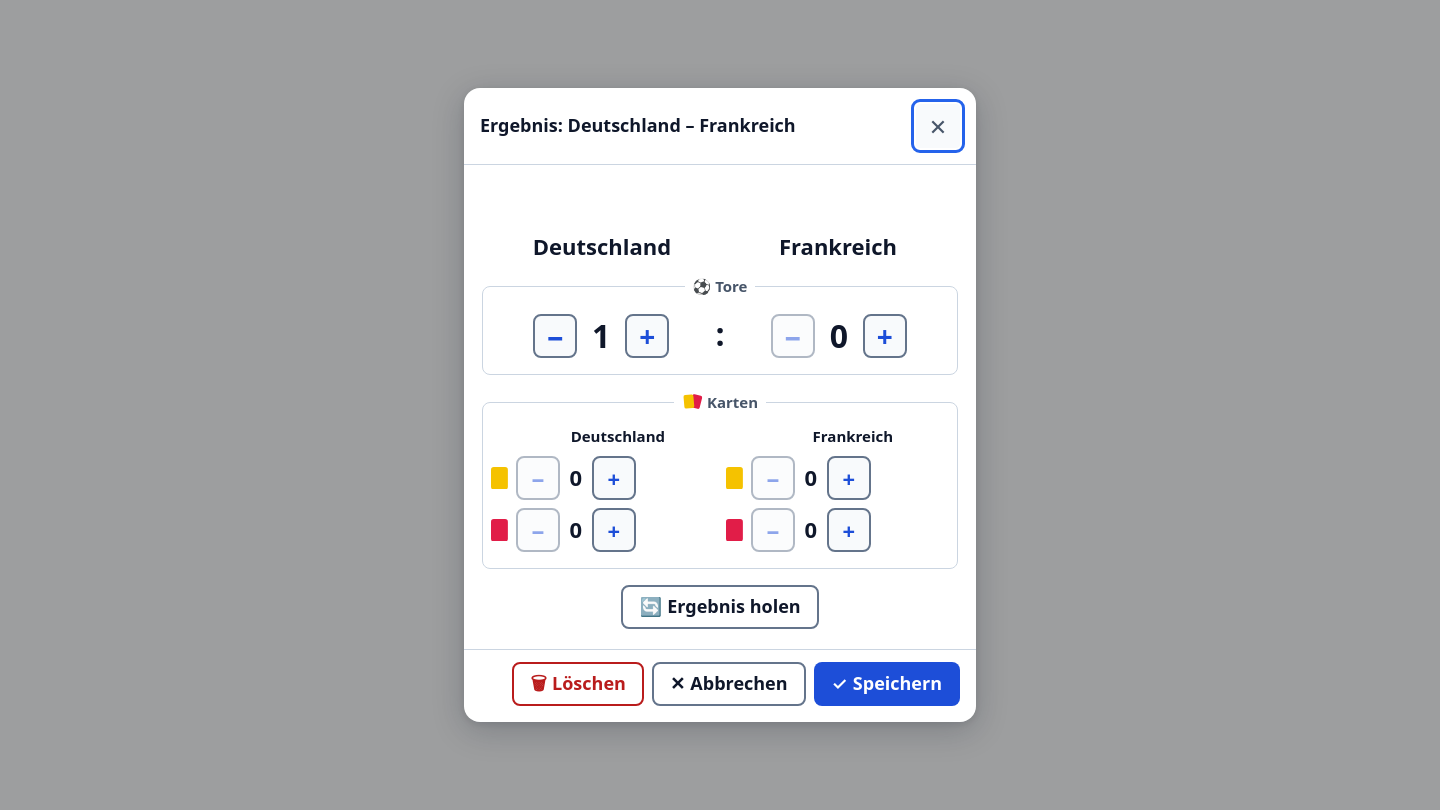
Test: ScoreDialog › cascade confirmation › shows a ConfirmDialog instead of writing when saving would invalidate downstream results
Click the 1st button "−".
click(555, 336)  # box [533, 314, 577, 358]
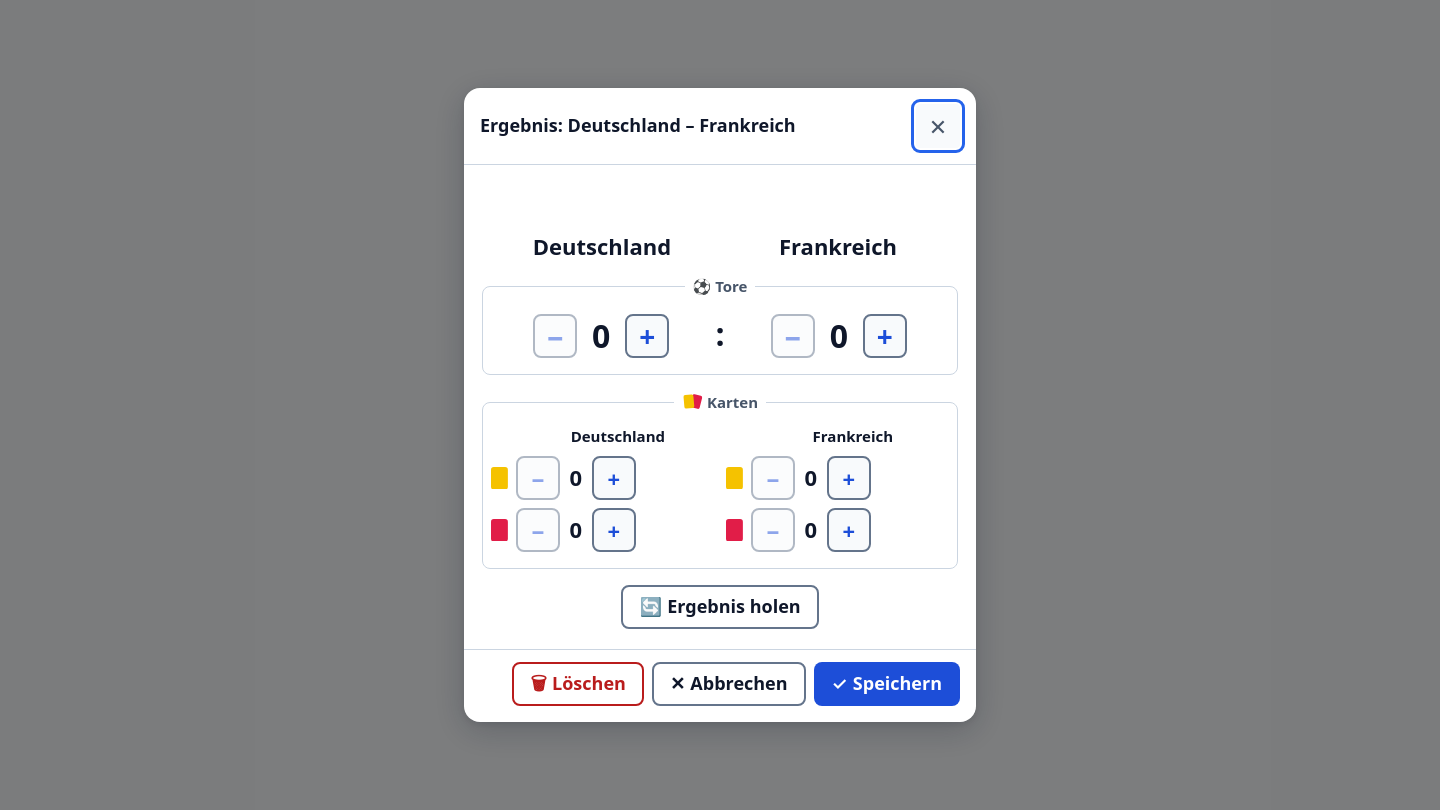
Click the 2nd button "+".
click(885, 336)  # box [863, 314, 907, 358]
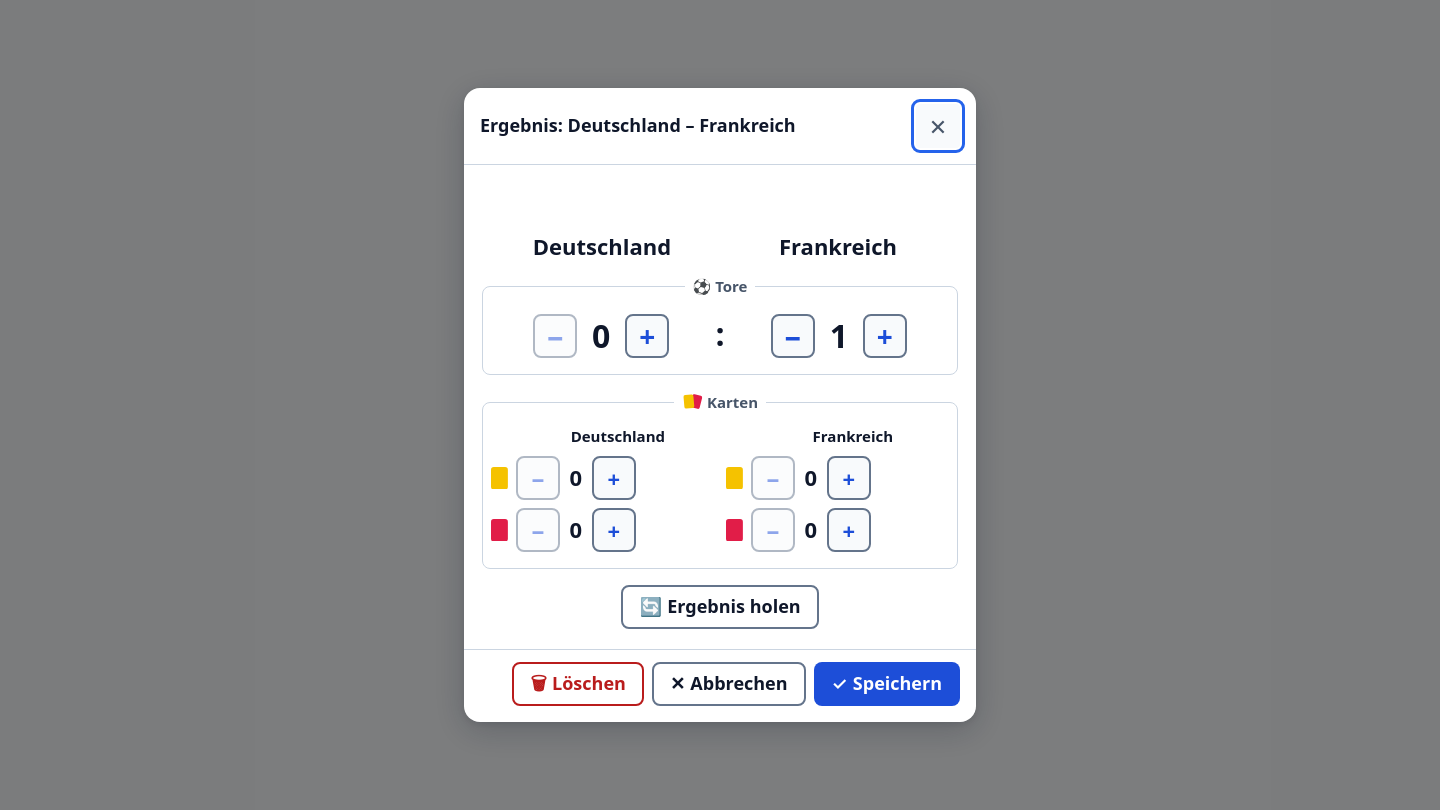
Click the 2nd button "+".
click(885, 336)  # box [863, 314, 907, 358]
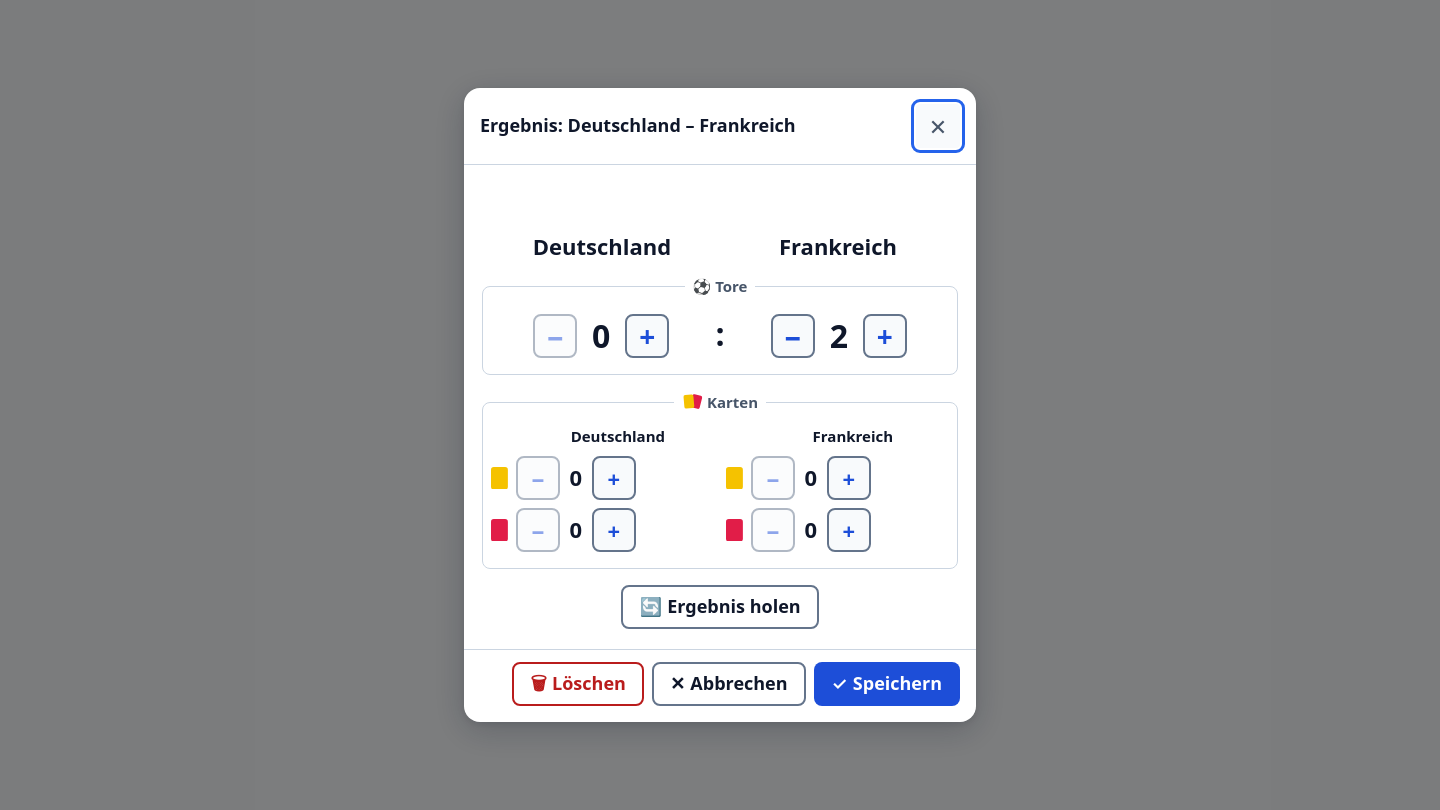
Click the 2nd button "+".
click(885, 336)  # box [863, 314, 907, 358]
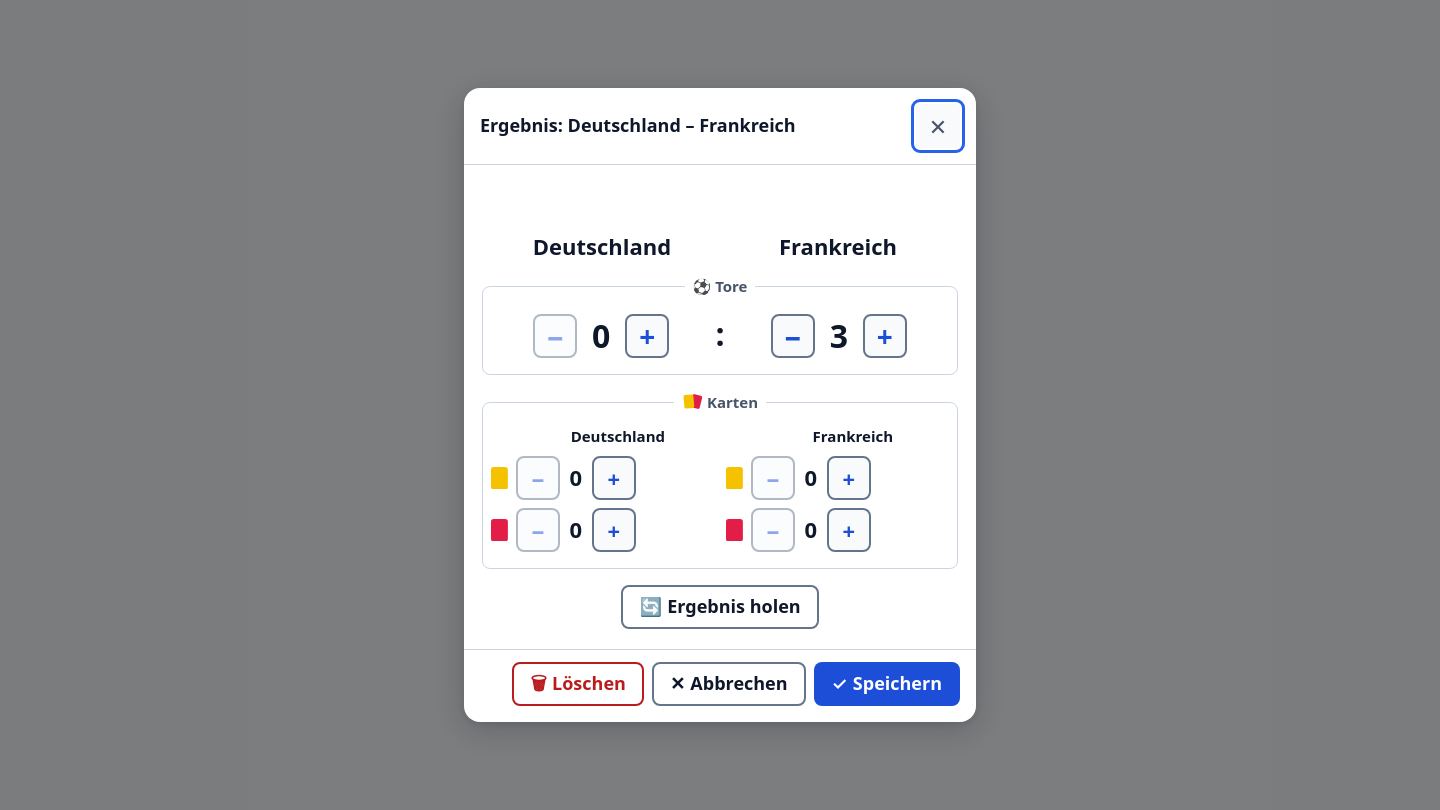
Click the button "✓ Speichern".
click(887, 684)  # box [814, 662, 960, 706]
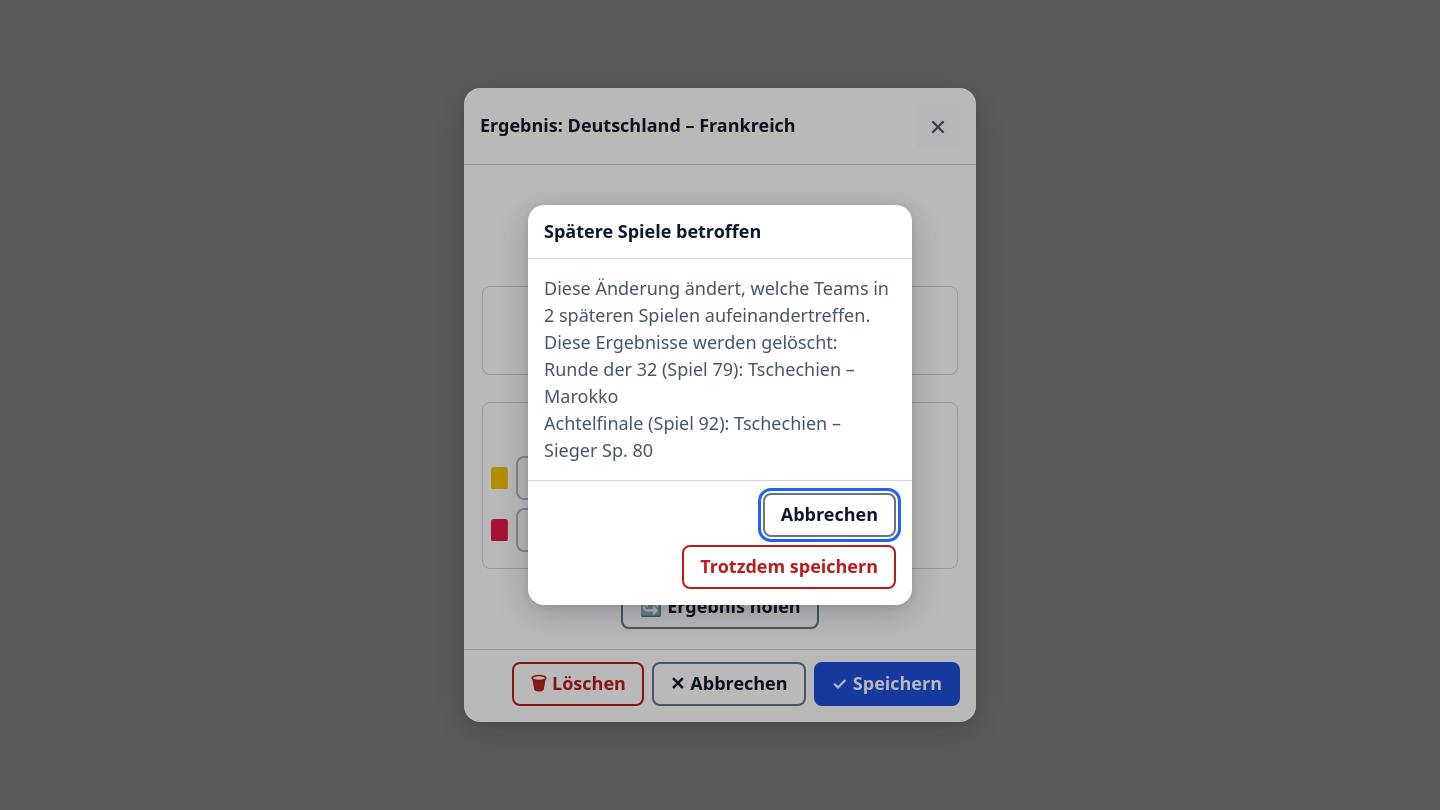
Result: the dialog that starts with "Spätere Spiele betroffen" is shown at [528, 205, 912, 605]
